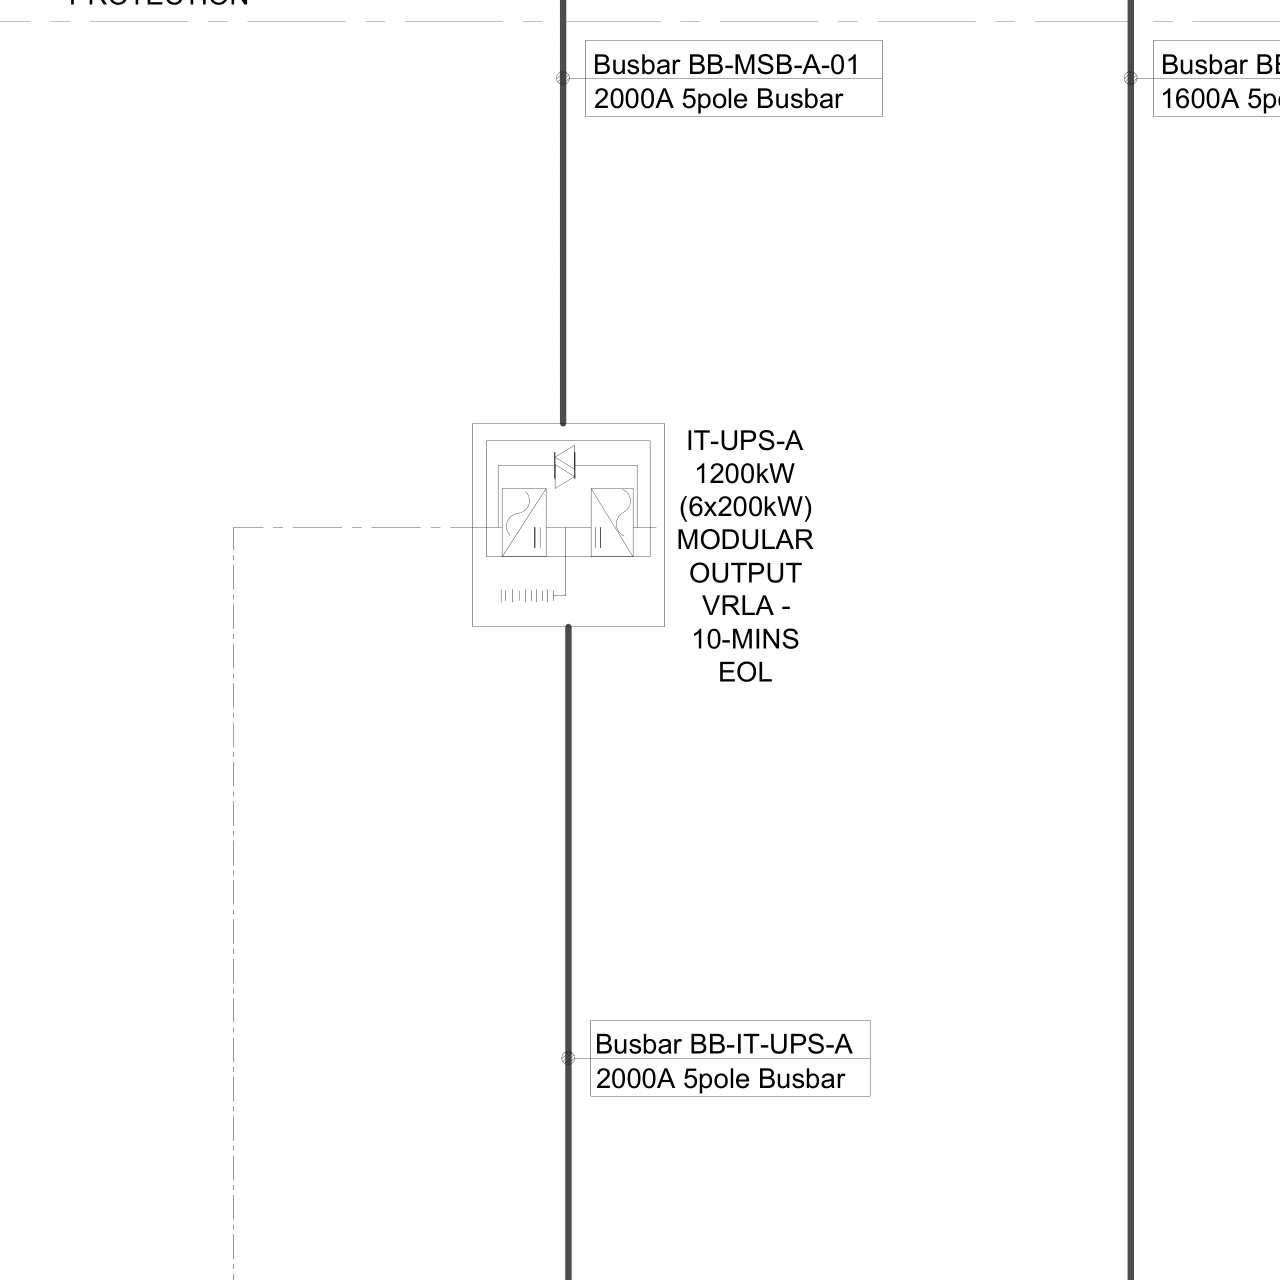UPS: (457, 410, 670, 651)
